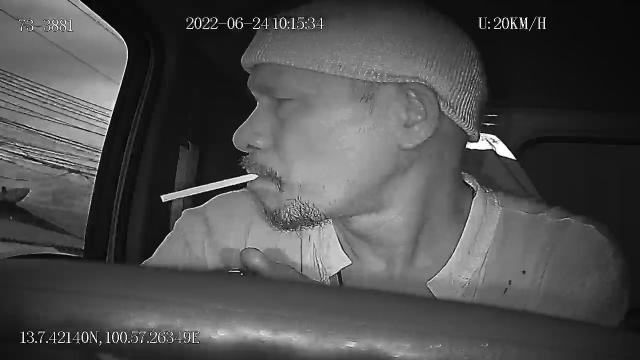Cigarette: (160, 172, 260, 204)
